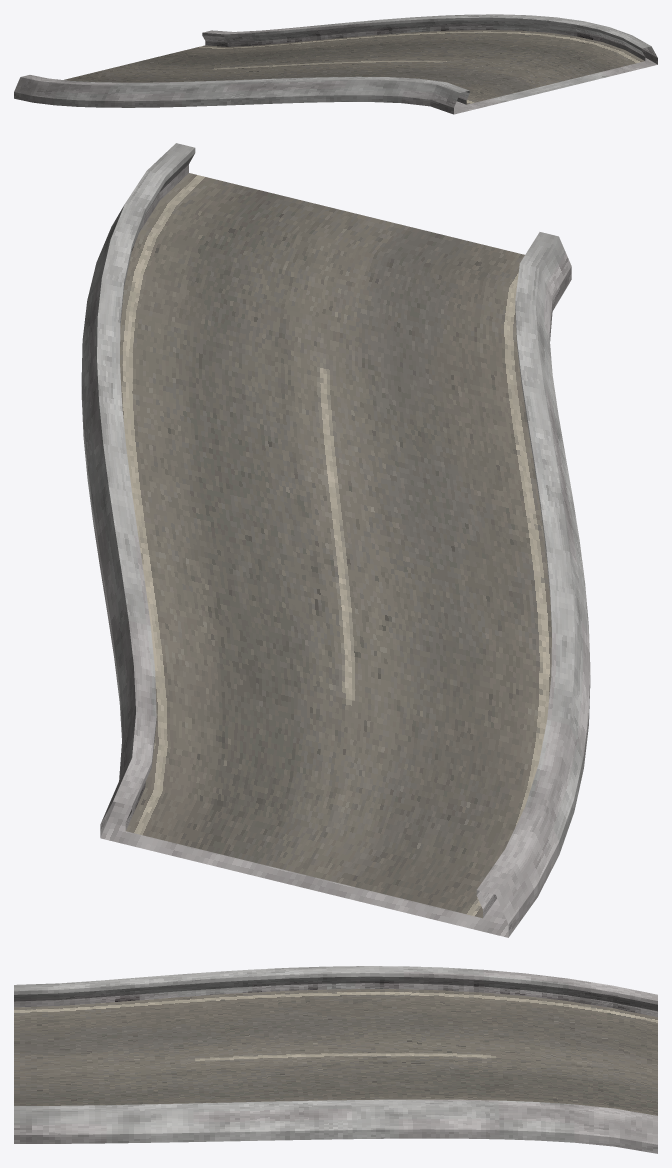
Rendered from chicane-left1x2.glb.
3 renders of one model, top to bottom at view 1: azimuth 30°, elevation 25°; view 2: azimuth 150°, elevation 25°; view 3: azimuth 270°, elevation 25°, orthographic. The views are drawn at different scales.
Parts seen in each view (by area): view 1: road-Chicane-Flat-BiSlopeDown-Down2-Left1-Size2; view 2: road-Chicane-Flat-BiSlopeDown-Down2-Left1-Size2; view 3: road-Chicane-Flat-BiSlopeDown-Down2-Left1-Size2.
Boxes of the visible parts, x1,y1,x2,y2 form: road-Chicane-Flat-BiSlopeDown-Down2-Left1-Size2: (14, 14, 657, 114); road-Chicane-Flat-BiSlopeDown-Down2-Left1-Size2: (81, 143, 590, 937); road-Chicane-Flat-BiSlopeDown-Down2-Left1-Size2: (14, 966, 657, 1153).
Size of the model in its own units: 2 by 0.5938 by 2.
2 materials, 2 textured.
